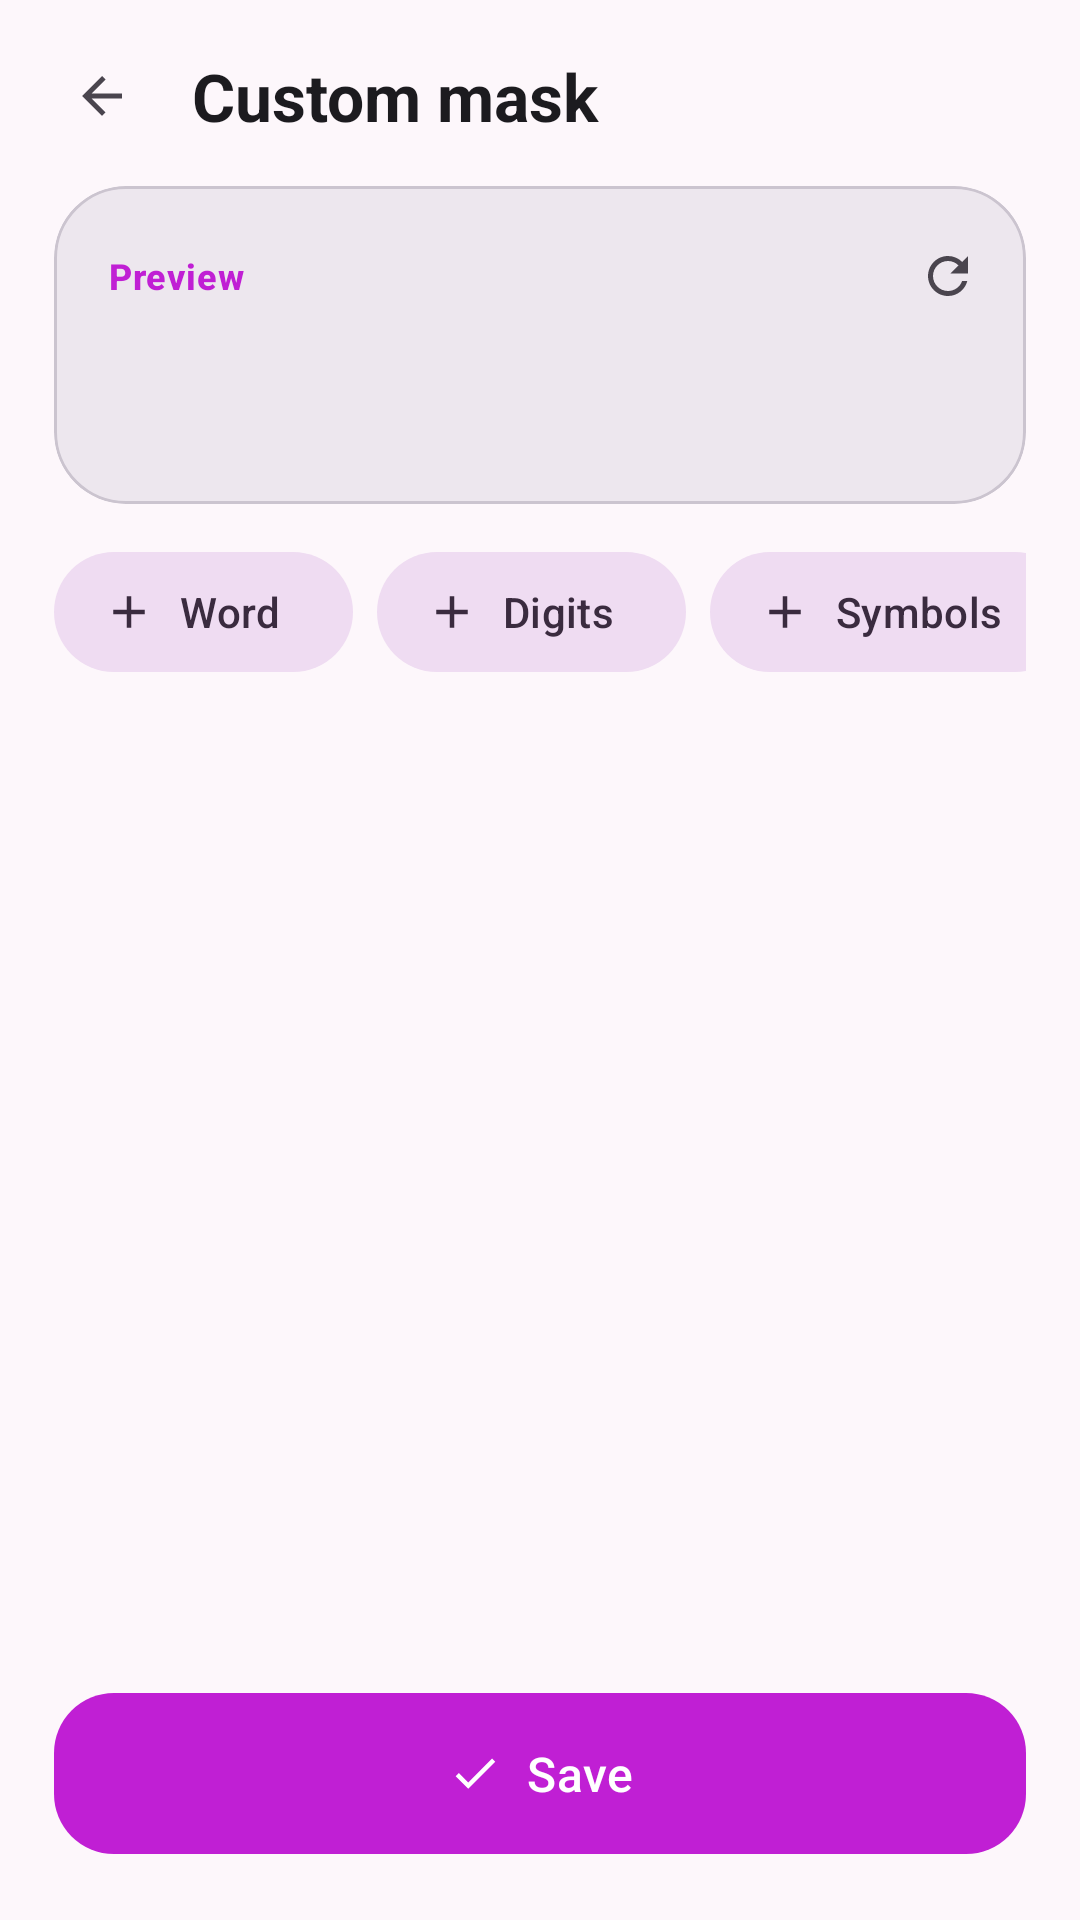

Icons on this 1080px x 1920px Android screen, each with the point to tap as point (x, y):
arrow back: point (102, 96)
Generate: point (948, 276)
